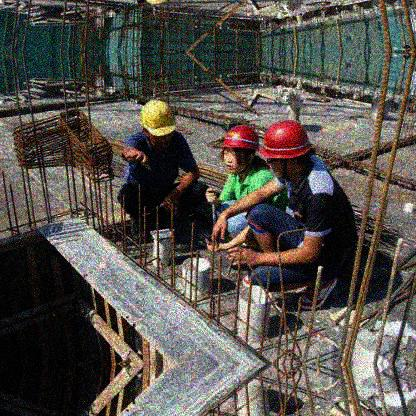helmet: (260, 120, 311, 178), (220, 125, 260, 175), (141, 99, 177, 151)
